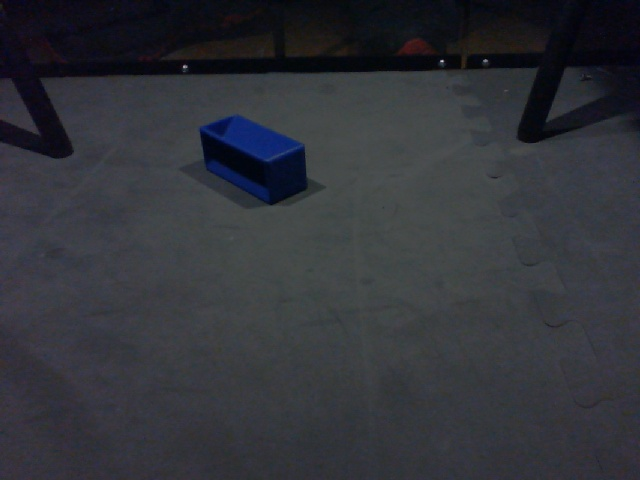BlueSample: (197, 113, 310, 206)
